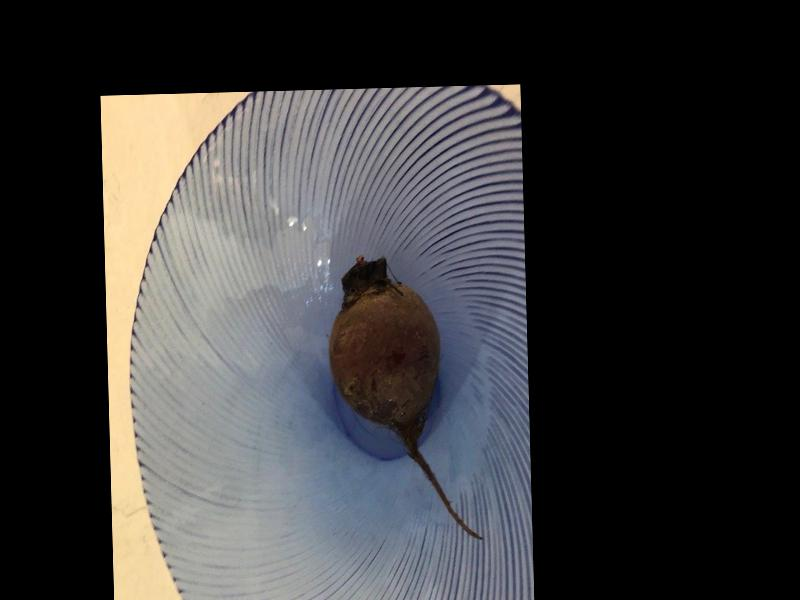Beet: (328, 255, 481, 543)
